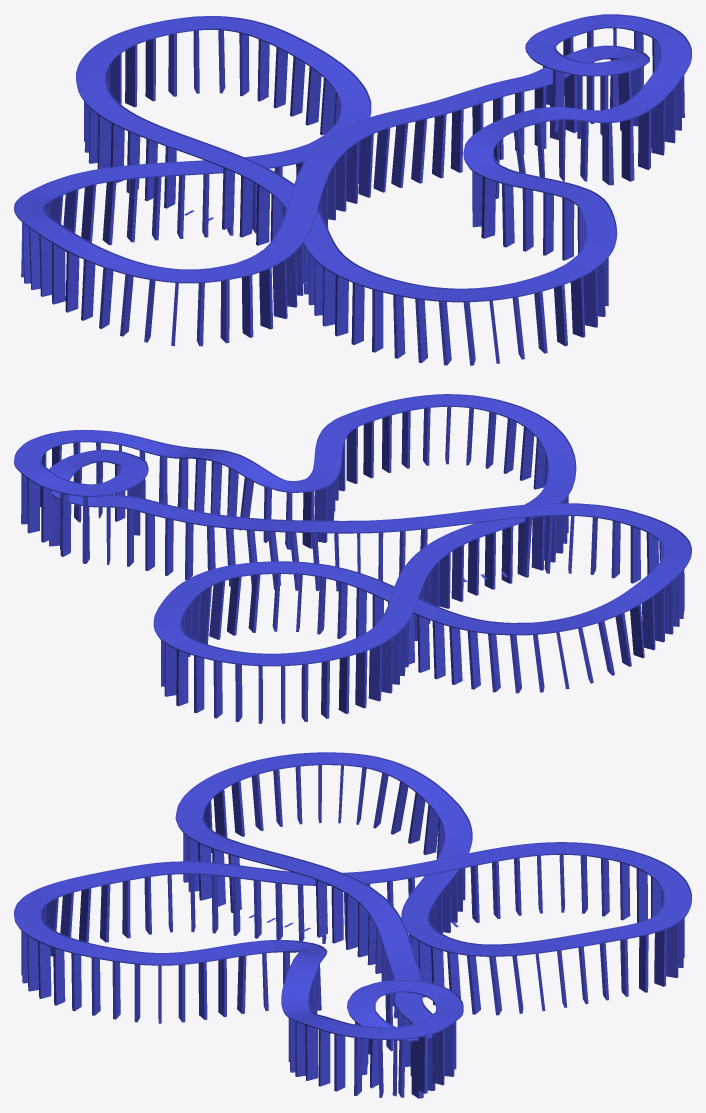
Rendered from paristrack4-pt3.fbx.
3 views of the same model, one above another, from view 1: azimuth 30°, elevation 25°; view 2: azimuth 150°, elevation 25°; view 3: azimuth 270°, elevation 25° (orthographic). The views are drawn at different scales.
Parts seen in each view (by area): view 1: Plane; view 2: Plane; view 3: Plane.
Part boxes in pixels (x1,y1,x2,y2): Plane: (14, 14, 691, 365); Plane: (14, 394, 691, 723); Plane: (14, 752, 691, 1098).
Size of the model in its own units: 21663 by 3490 by 20669.
